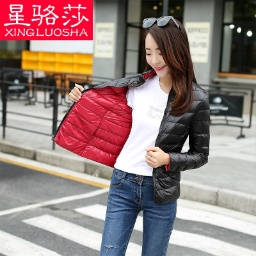face: (134, 15, 203, 97)
